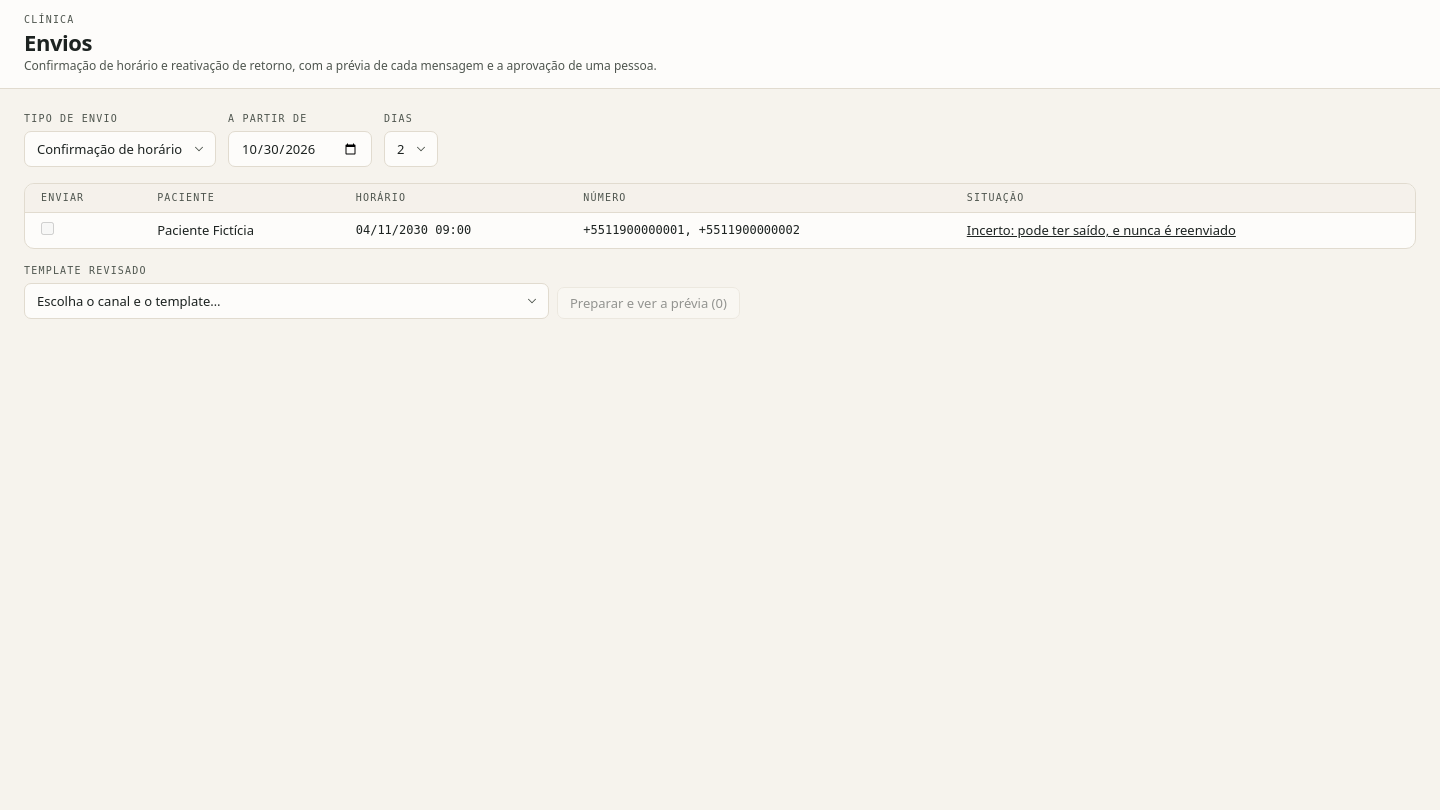
it: envios: candidatos, prévia e aprovação › o estado incerto diz que pode ter saído e que nunca é reenviado; o motivo é o do despacho
This screenshot has width=1440, height=810.
Click the button with aria-label "Acompanhar o pedido de Paciente Fictícia" at (1101, 230), box [967, 221, 1236, 240]
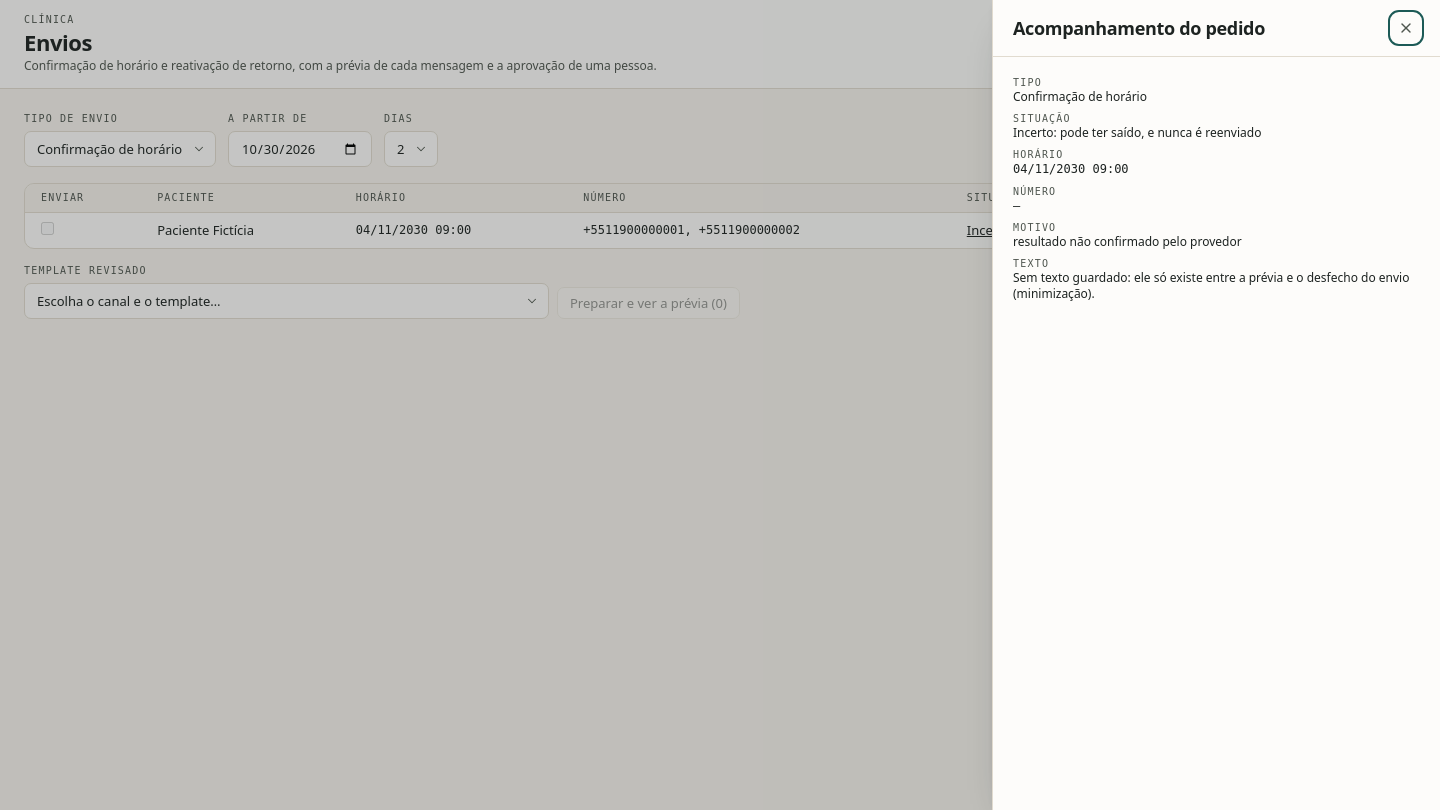
Result: the text "resultado não confirmado pelo provedor" is shown at [1013, 233, 1242, 250]
